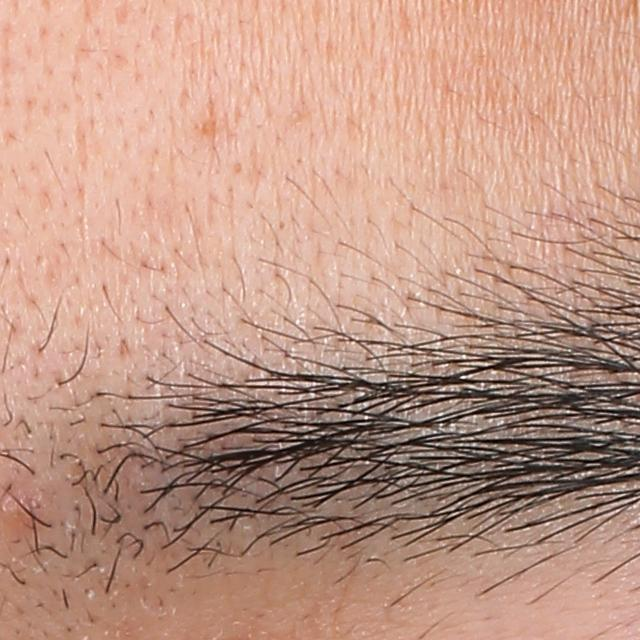papule: (3, 486, 43, 527)
